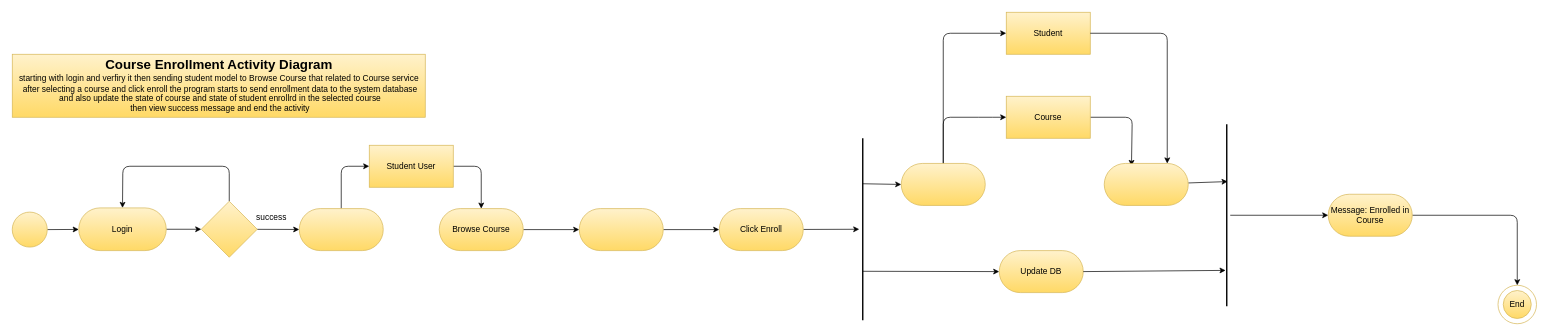
Image size: 1549x336. Some labels were removed from this diagram. Here are the shapes that lost their labels. From the top down, the centre of each, then its label:
At point (943, 184): "send enrollment data".
At point (1146, 184): "Enrollment Service".
At point (29, 229): "Start".
At point (341, 229): "Verify User".
At point (621, 229): "Select a Course".
